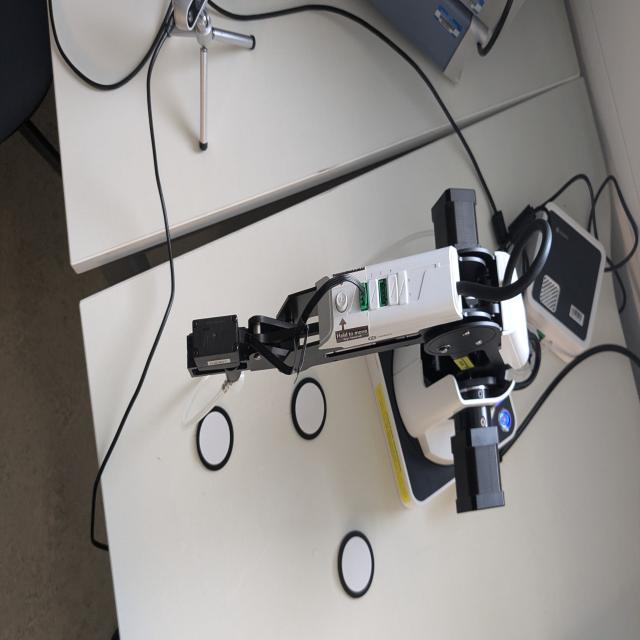Robot-end-effector-HF8z: (184, 311, 249, 398)
